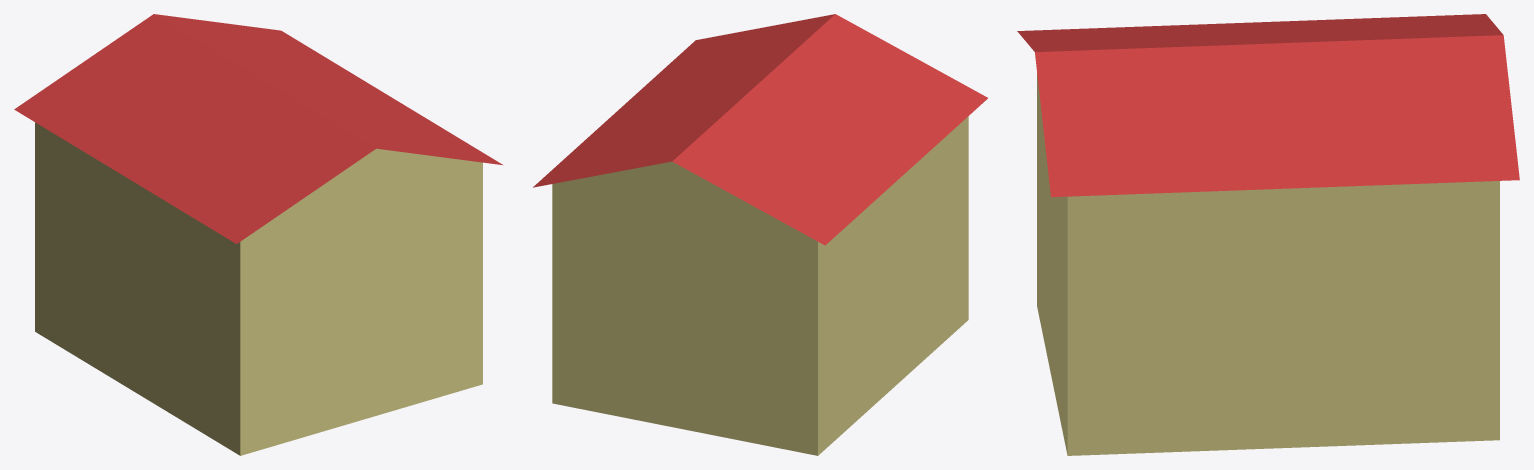
The picture shows the model from 3 angles, left to right: view 1: azimuth 30°, elevation 25°; view 2: azimuth 150°, elevation 25°; view 3: azimuth 270°, elevation 25°; orthographic projection. The views are drawn at different scales.
Bounding box in the file's own units: 11.9 × 13.8 × 10.08.
